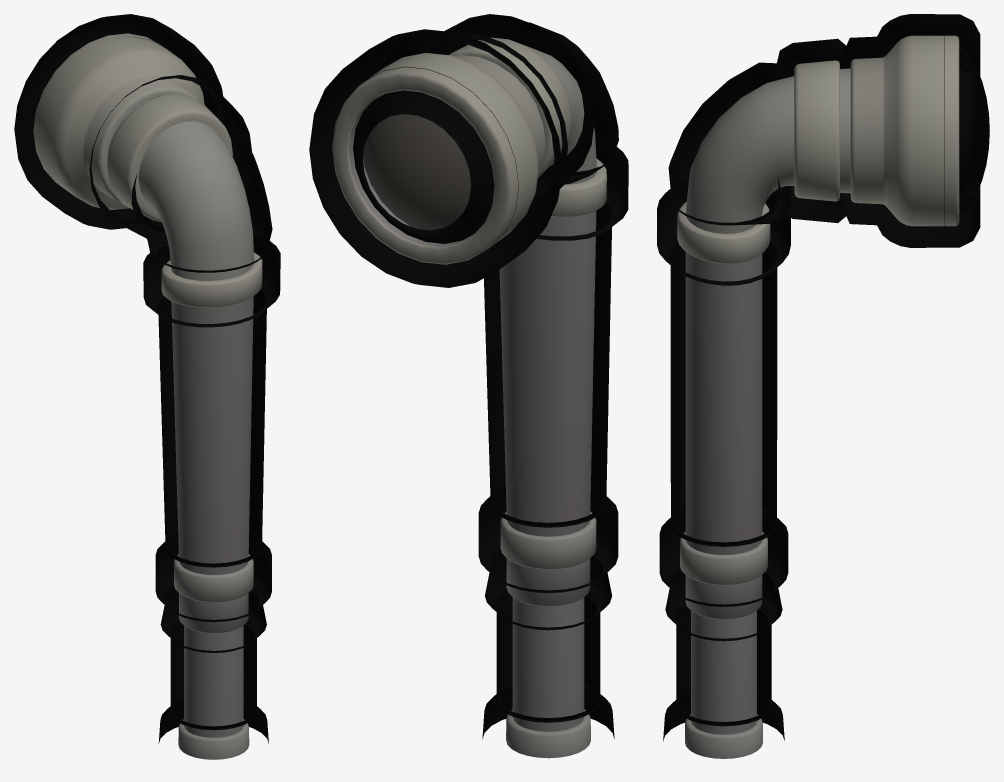
Rendered from periscope_backFace.fbx.
The picture shows the model from 3 angles, left to right: view 1: azimuth 30°, elevation 25°; view 2: azimuth 150°, elevation 25°; view 3: azimuth 270°, elevation 25°; orthographic projection. The views are drawn at different scales.
Parts seen in each view (by area): view 1: periscope; view 2: periscope; view 3: periscope.
Part boxes in pixels (left/top/right/bottom): periscope: left=14, top=14, right=280, bottom=759; periscope: left=309, top=14, right=628, bottom=758; periscope: left=657, top=14, right=989, bottom=758.
Size of the model in its own units: 71.15 by 240 by 101.
